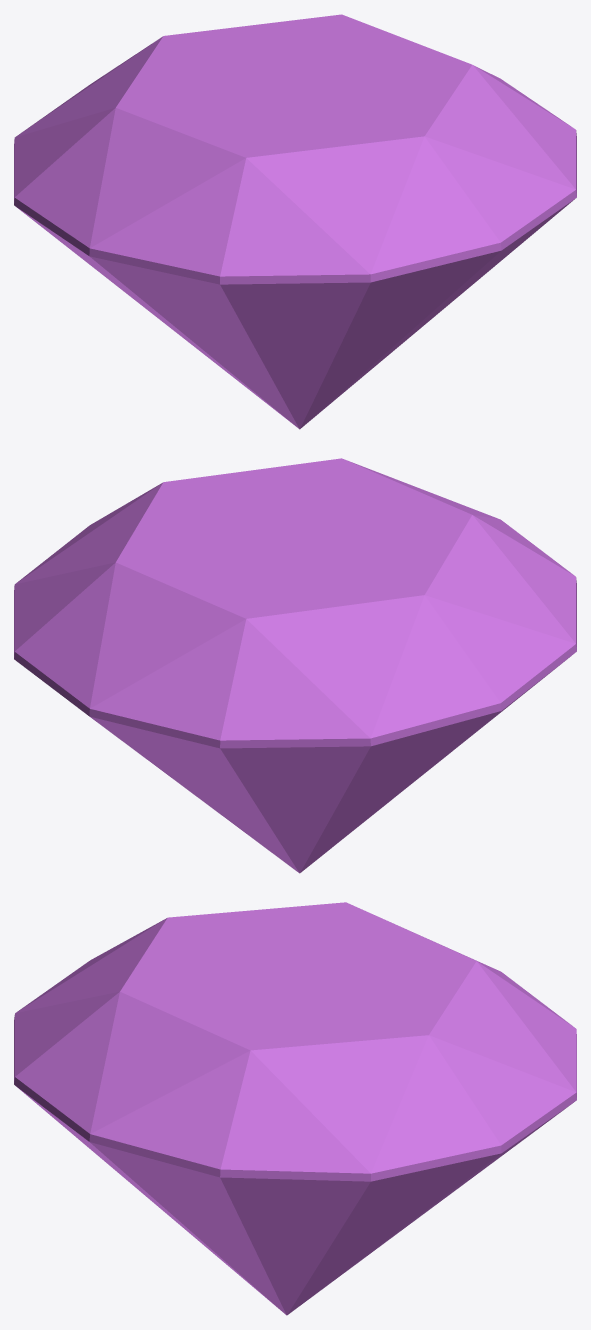
3 renders of one model, top to bottom at view 1: azimuth 30°, elevation 25°; view 2: azimuth 150°, elevation 25°; view 3: azimuth 270°, elevation 25°, orthographic.
Visible parts, largest first — view 1: diamante 224_0; view 2: diamante 224_0; view 3: diamante 224_0.
Part boxes in pixels (x1,y1,x2,y2): diamante 224_0: [14, 14, 576, 429]; diamante 224_0: [14, 458, 576, 873]; diamante 224_0: [14, 902, 576, 1315].
Bounding box in the file's own units: 10 × 6.74 × 10.
